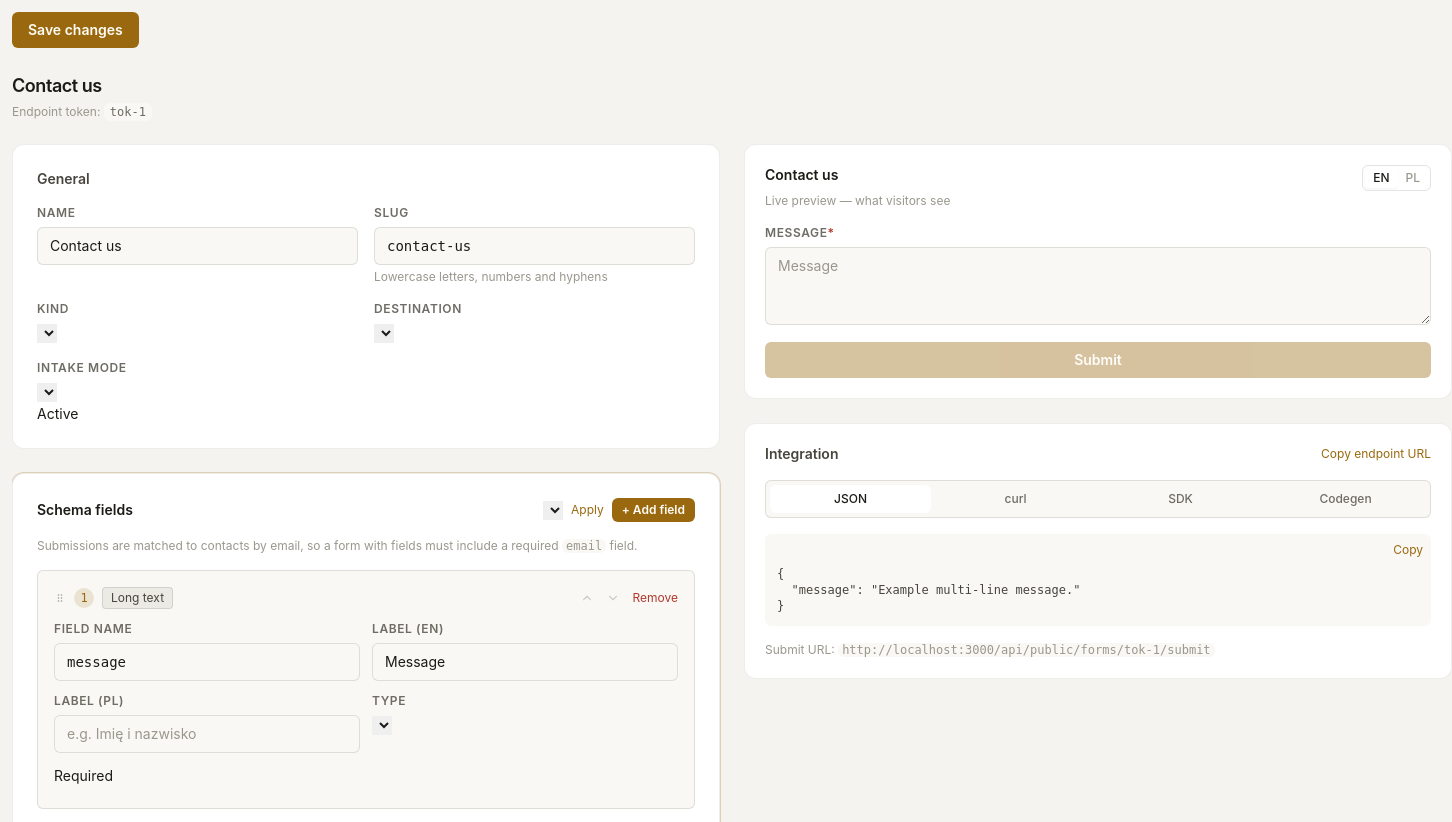
Test: FormDetailView — builder › blocks the save and explains when no required email field is present
The width and height of the screenshot is (1452, 822).
Click the button "Save changes". click: x=75, y=30
box: [12,12,139,48]
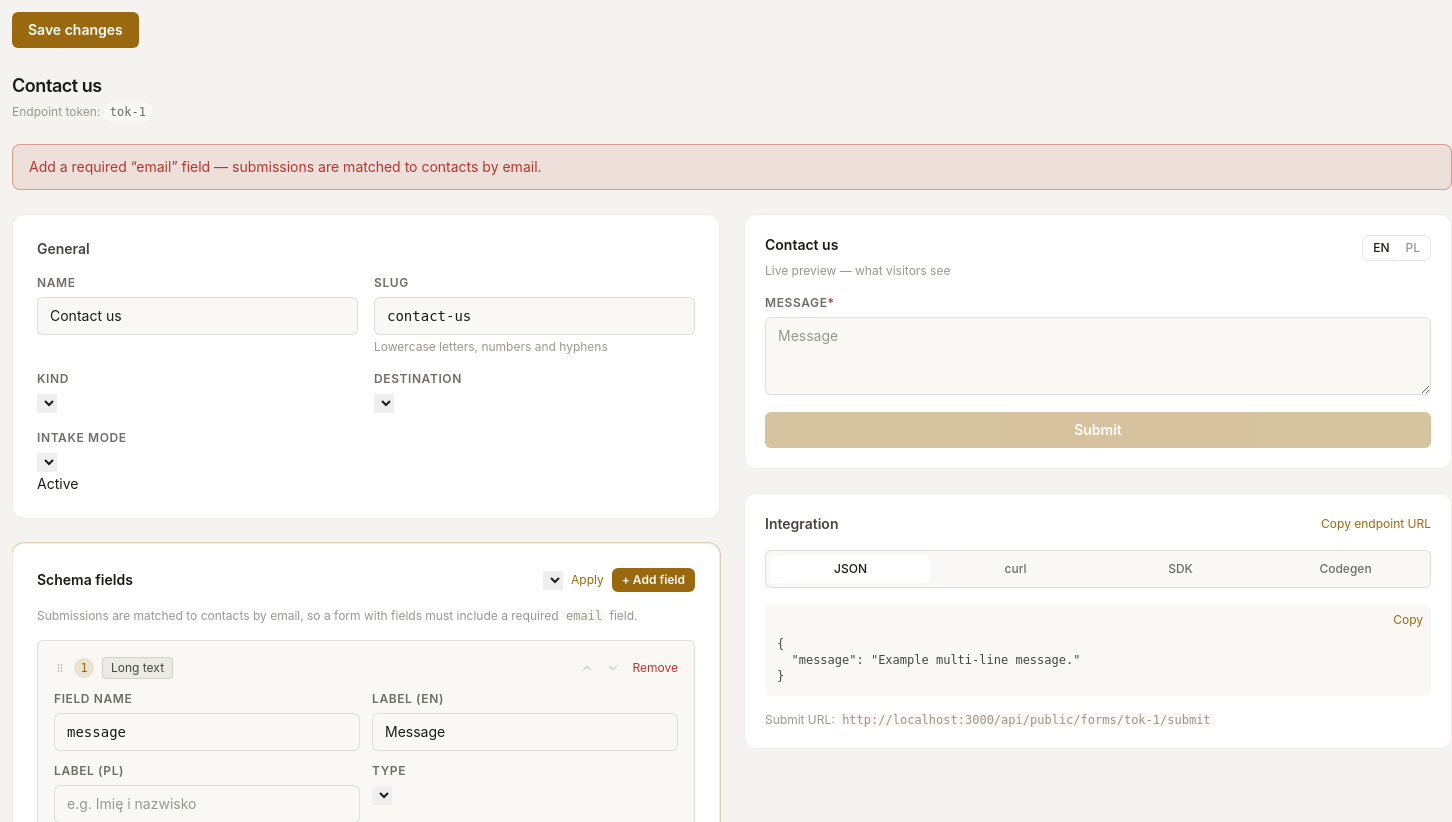
Now the text "Add a required “email” field" is shown, box [29,158,542,175]
